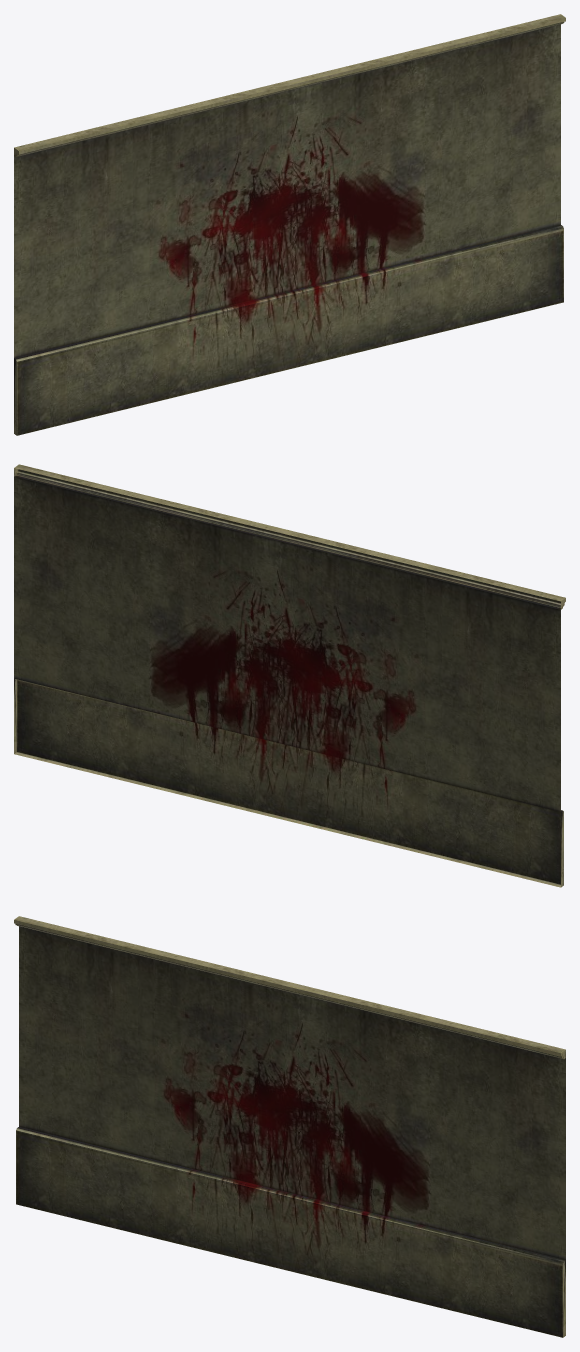
The picture shows the model from 3 angles, top to bottom: view 1: azimuth 30°, elevation 25°; view 2: azimuth 150°, elevation 25°; view 3: azimuth 330°, elevation 25°; orthographic projection.
Parts seen in each view (by area): view 1: Walls-material, Material_001-material; view 2: Walls-material, Material_001-material; view 3: Walls-material, Material_001-material.
Boxes of the visible parts, box(x1,y1,x2,y2) form: Walls-material: box(14, 14, 565, 435); Material_001-material: box(16, 18, 565, 157); Walls-material: box(14, 464, 565, 887); Material_001-material: box(14, 469, 560, 609); Walls-material: box(14, 916, 565, 1337); Material_001-material: box(14, 920, 563, 1059).
Size of the model in its own units: 5 by 2.5 by 0.0801.
2 materials, 2 textured.
